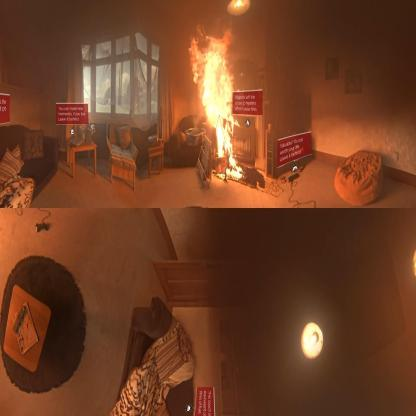fire: (189, 27, 243, 185)
